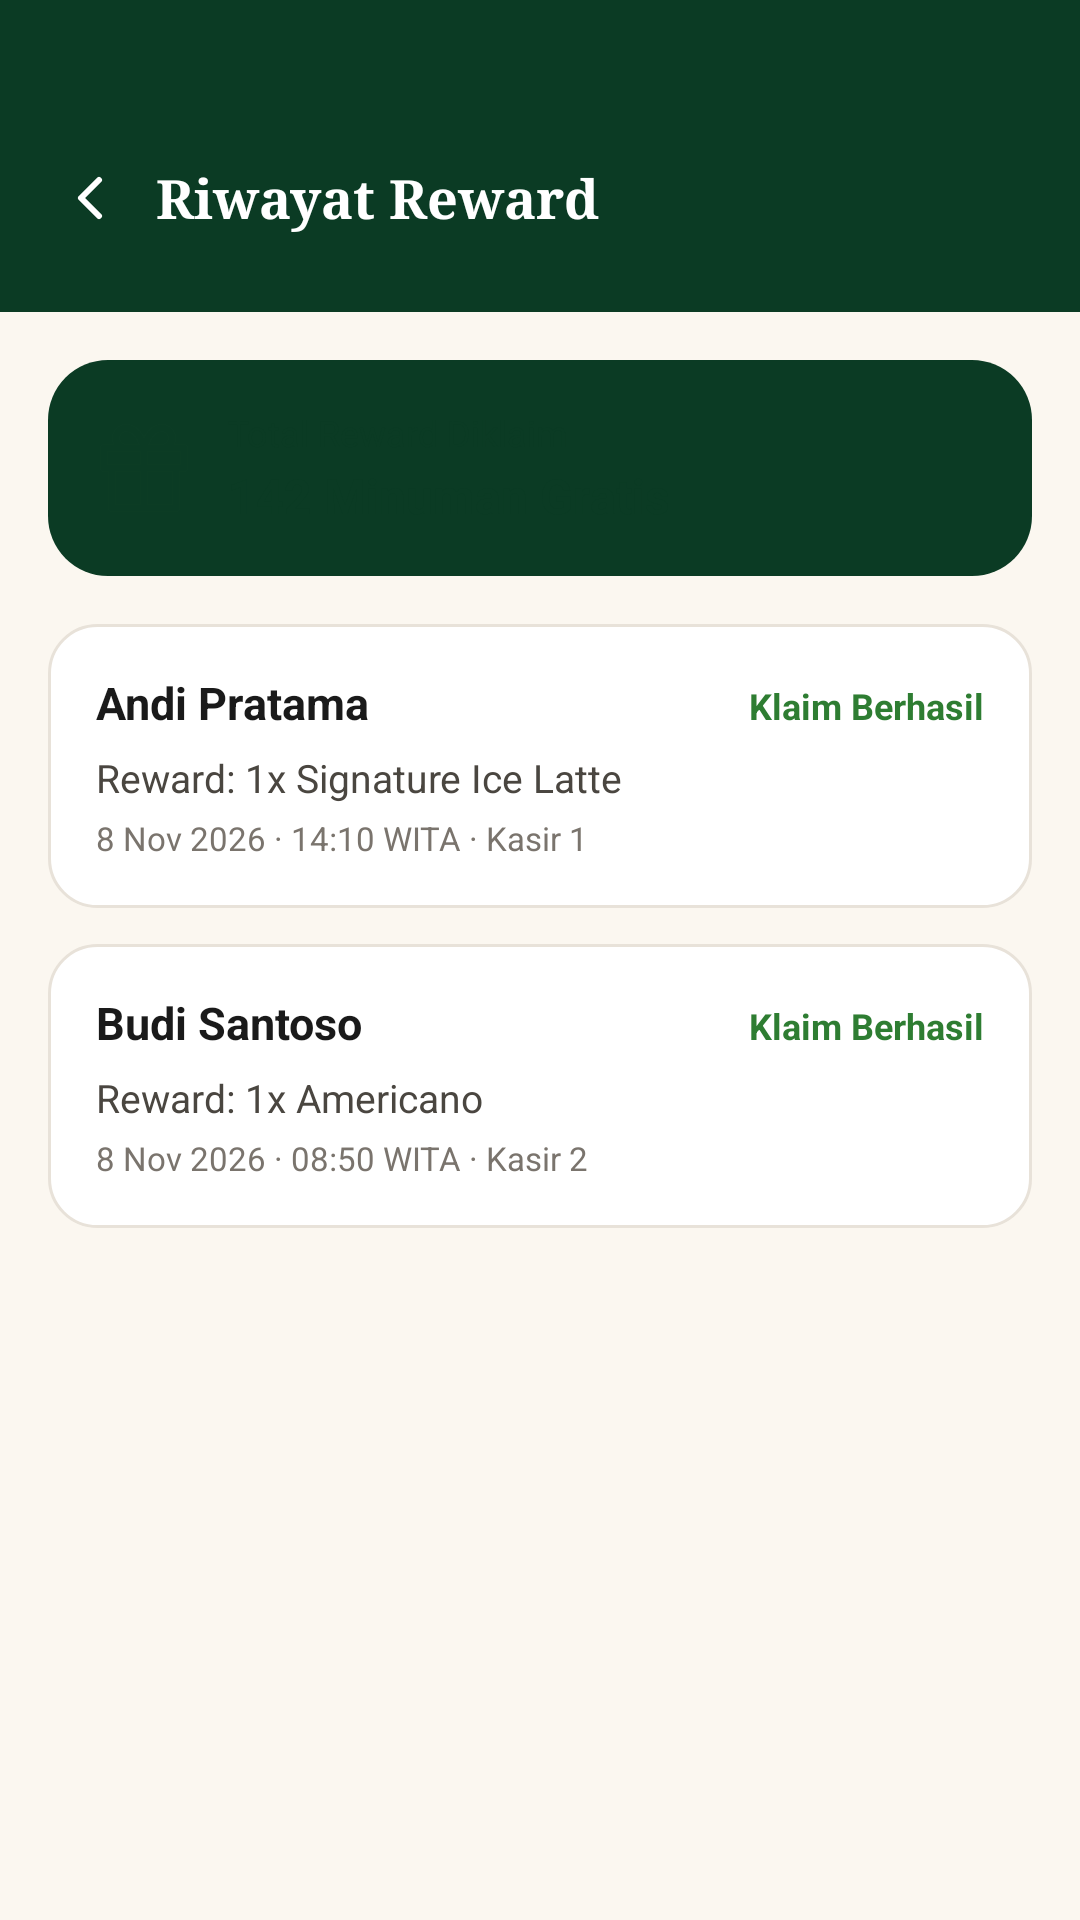

Icon bounding boxes for this 1080x1920 phone screenshot, format rect(x1, y1, x2, y2):
back: rect(78, 177, 102, 219)
